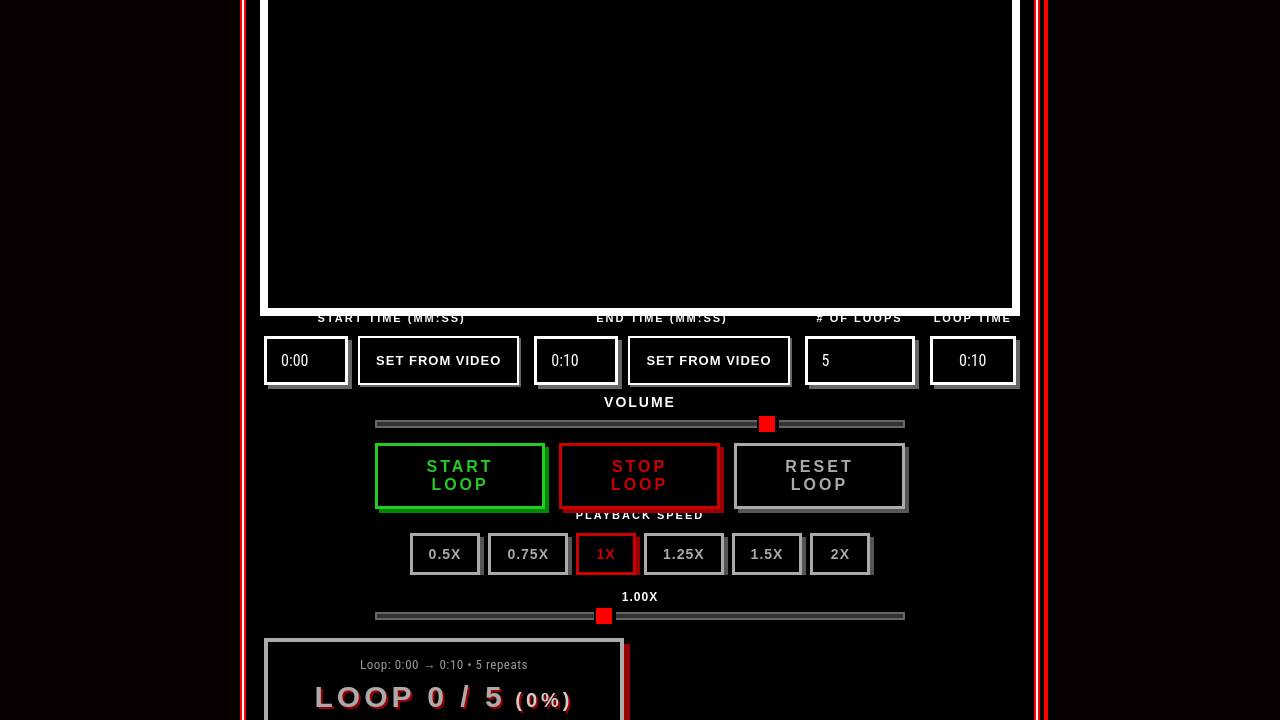
Test: App › stops on the final target loop when ENDED fallback completes the last cycle
This screenshot has width=1280, height=720.
(page scrolled)
Expected: the button "Reset Loop" is enabled, [734,443,905,509]
Type "1" into the field labelled "# of Loops".
click(860, 360); type("1")  # box [805,336,915,385]
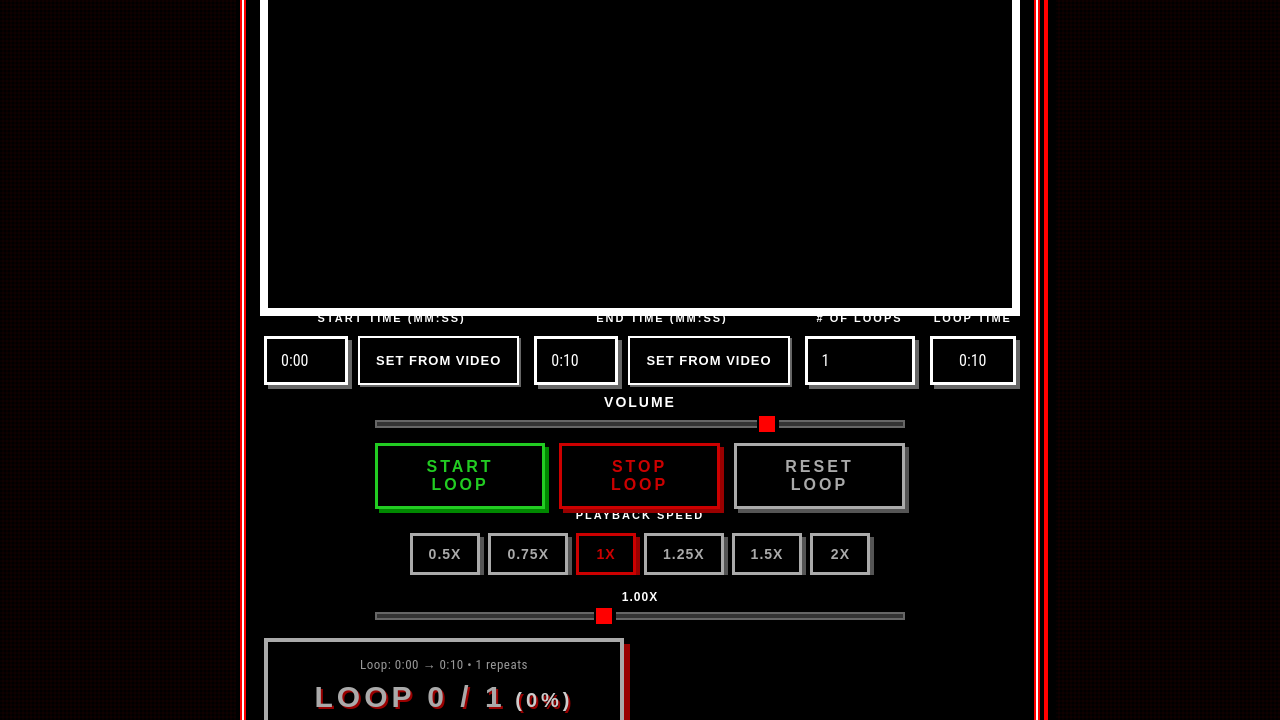
Click the button "Start Loop".
click(460, 476)  # box [375,443,545,509]
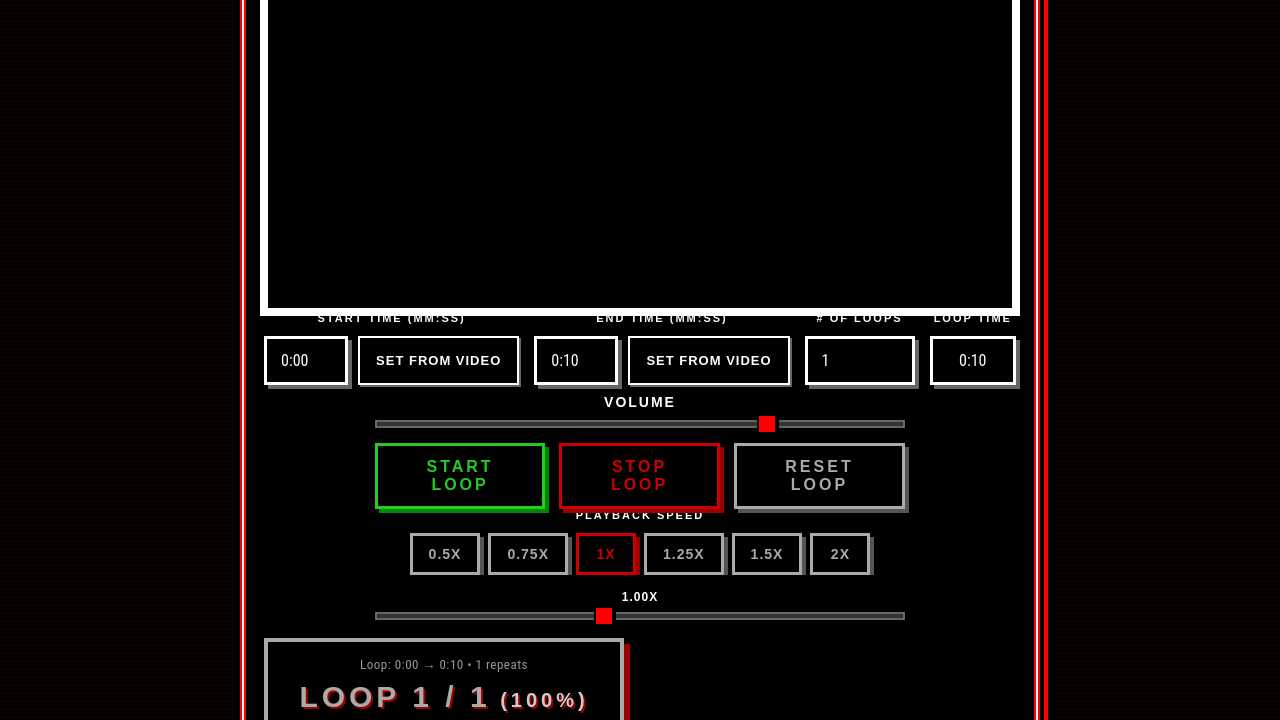
Expected: the text "Loop 1 / 1 (100%)" is shown, [286,680,602,714]
